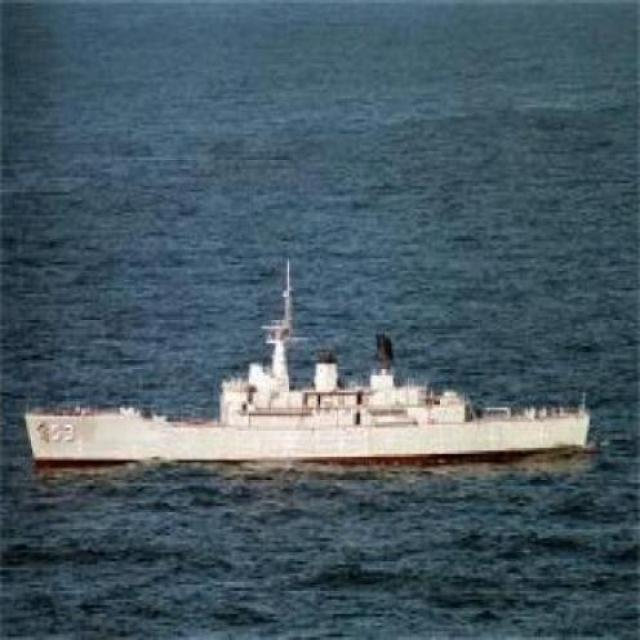boat: (18, 340, 596, 466)
